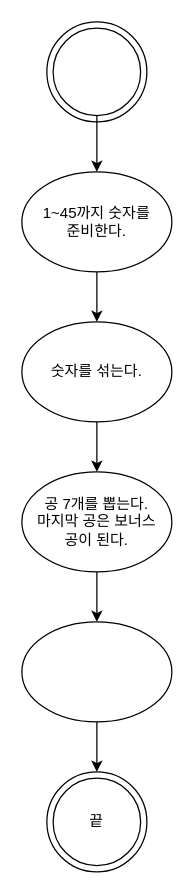
Some shapes in this 194 by 894 pixel diagram are drawn without their labels. Each missing label, with the box of its shape:
1초마다 공을 하나씩 화면에 표시한다: (21, 621, 172, 722)
시작: (52, 27, 141, 116)
